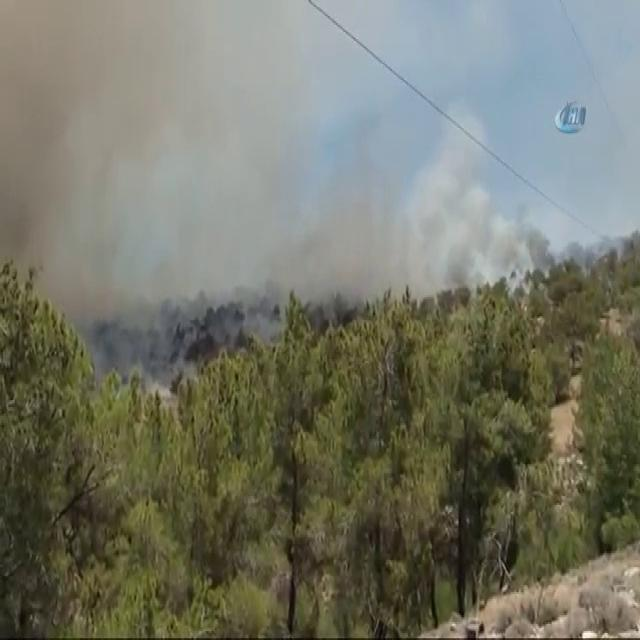Smoke: (25, 51, 268, 282), (380, 114, 552, 280)
